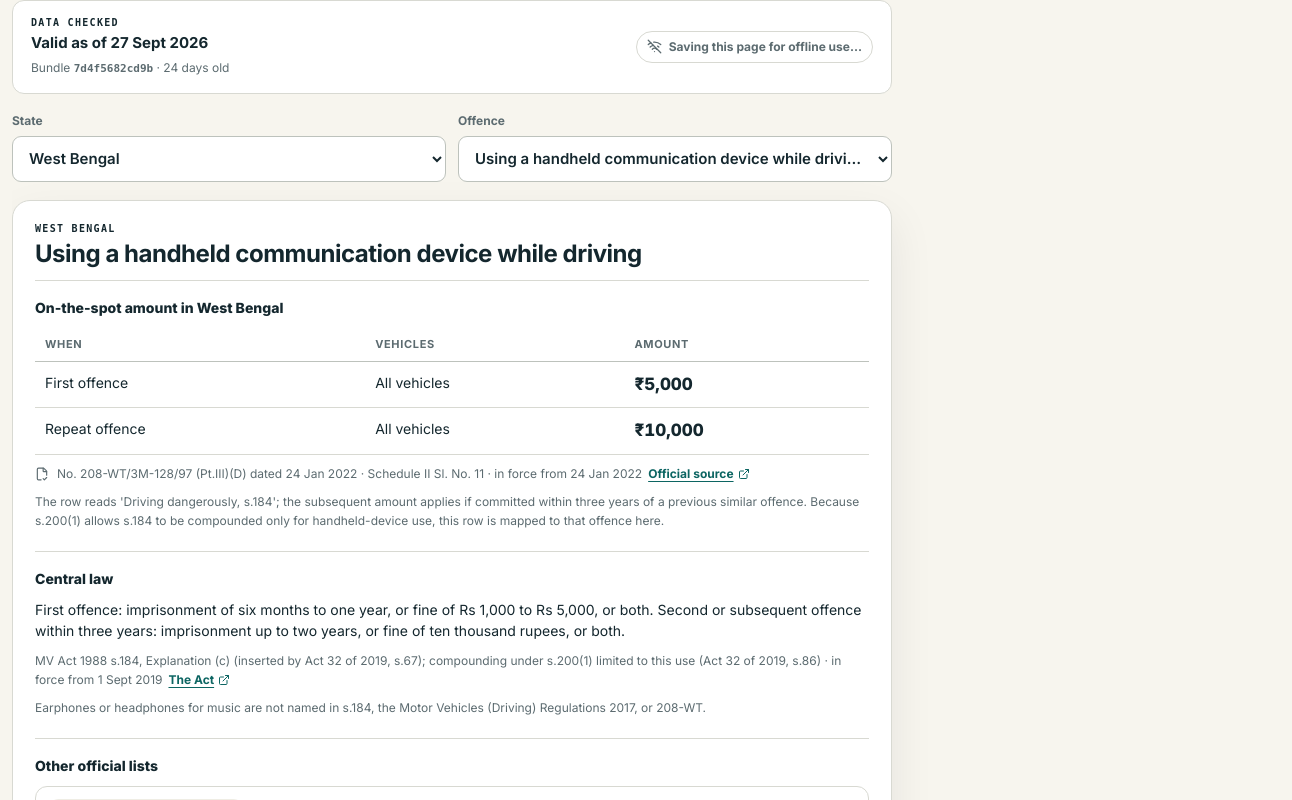
Test: RoadsideMode › shows no number for Delhi
Select "Delhi" in the dropdown labelled "State": coordinates (229, 158) [12,136,446,182]
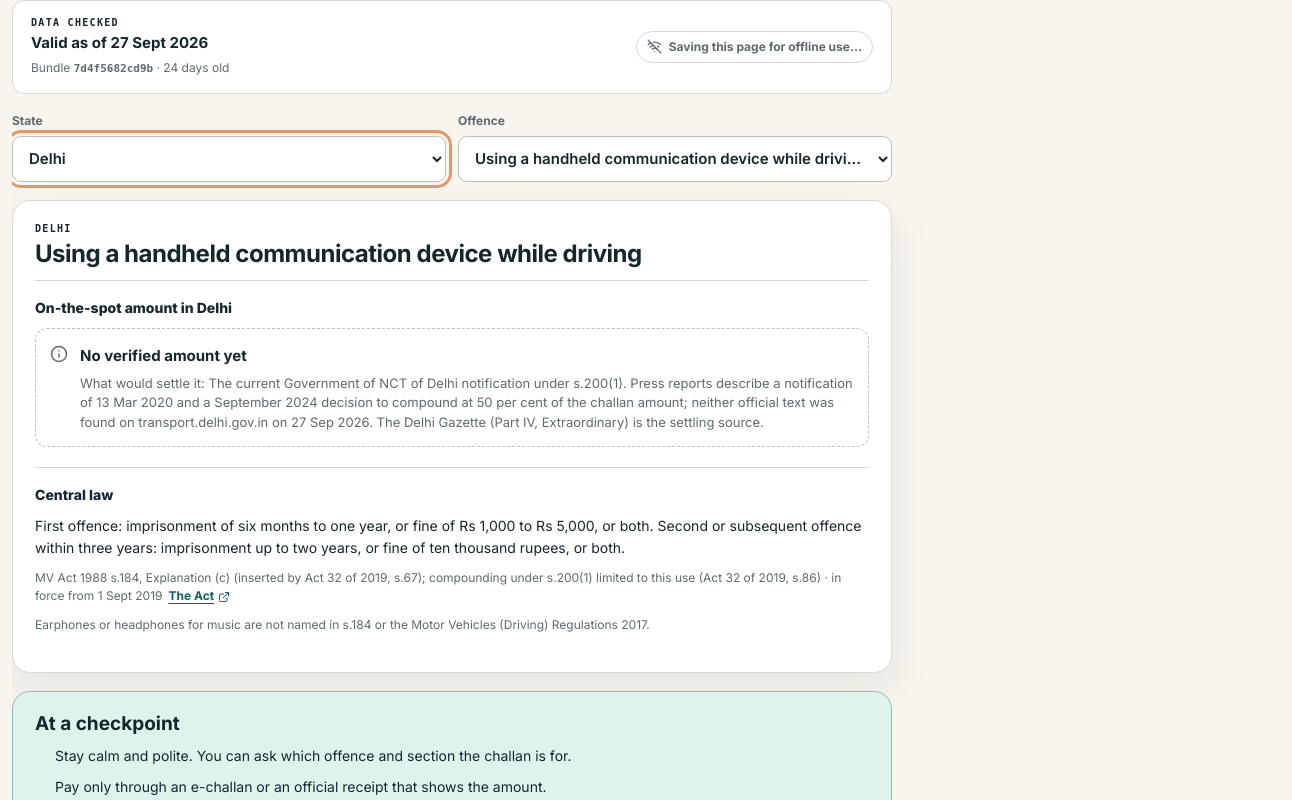
Result: the text "No verified amount yet" is shown at [80,346,247,365]
Result: the cell "On-the-spot amount in" no longer shows "₹"
